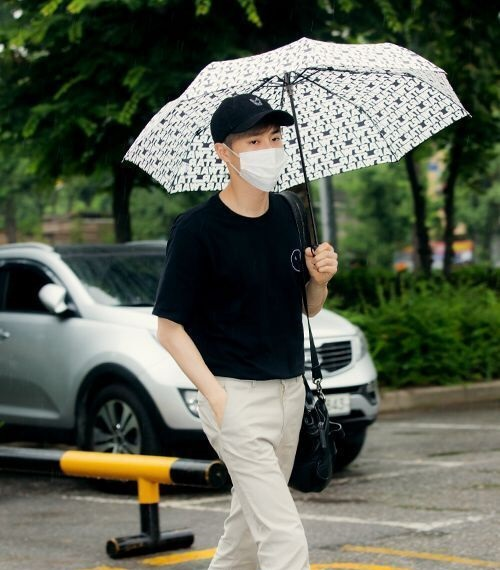face_mask: (231, 116, 282, 187)
